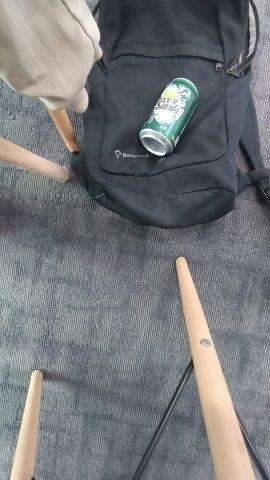kaleng: (138, 78, 198, 156)
